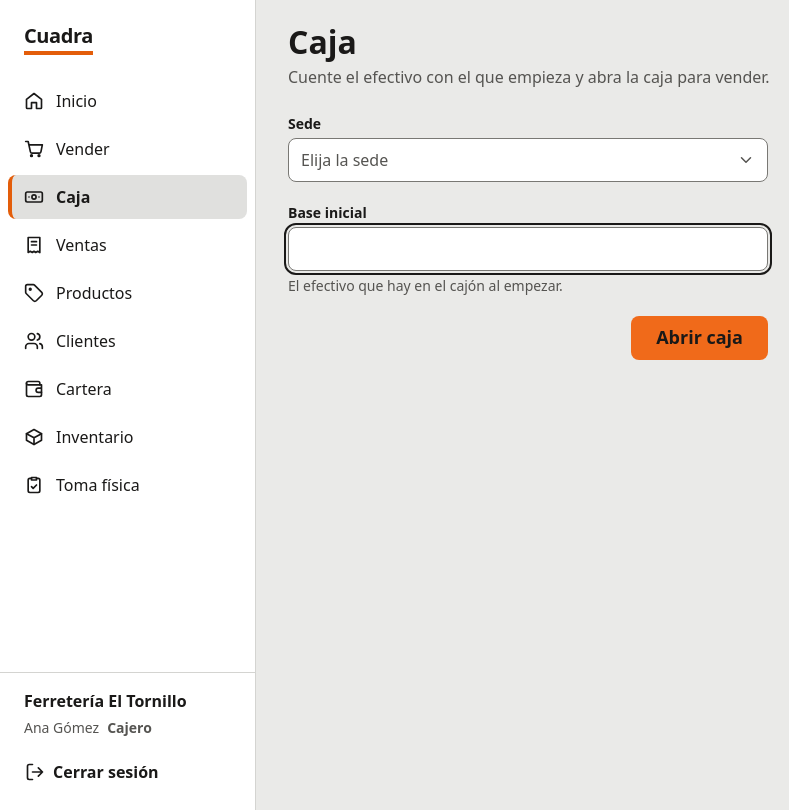
Scenario: CashPage › con varias sedes pide elegir dónde abrir la caja
The width and height of the screenshot is (789, 810).
Type "0" into the field labelled "Base inicial" at (528,249), box [288,227,768,271]
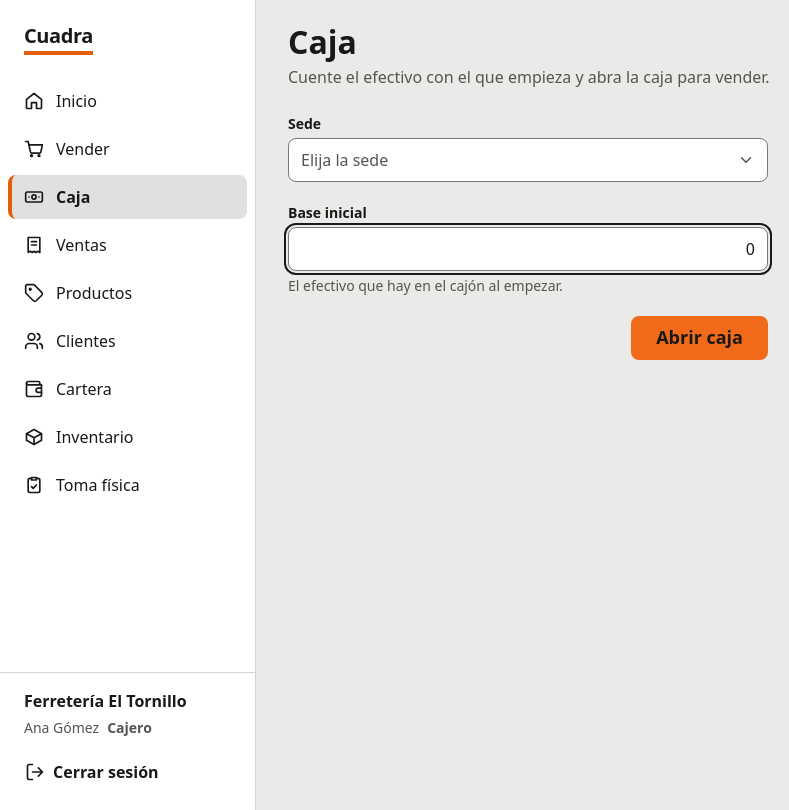
Click the button "Abrir caja" at (700,338), box [631,316,768,360]
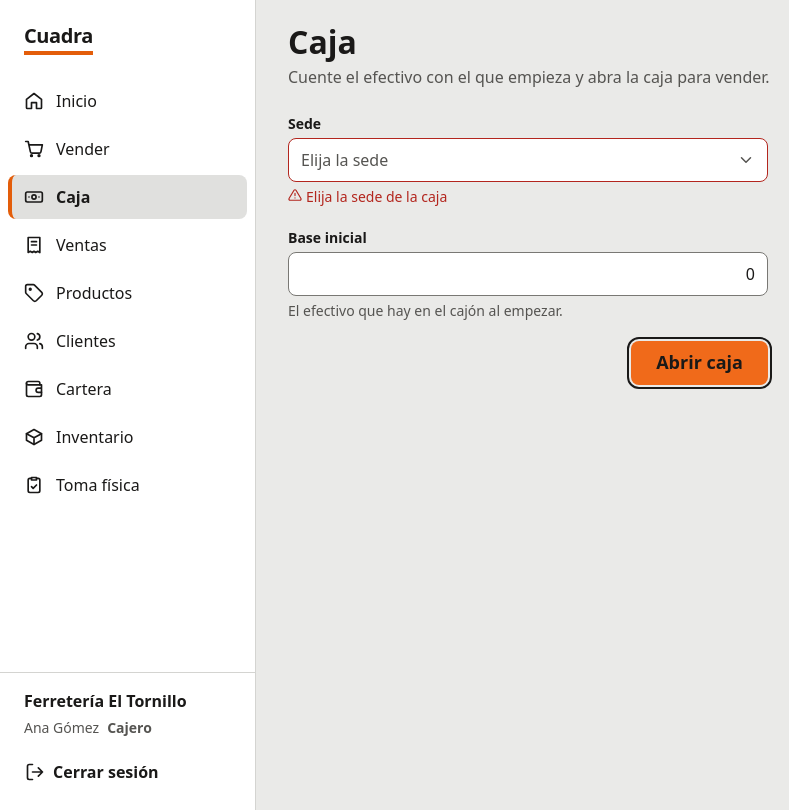
Expected: the text "Elija la sede de la caja" is shown, [306,186,447,207]
